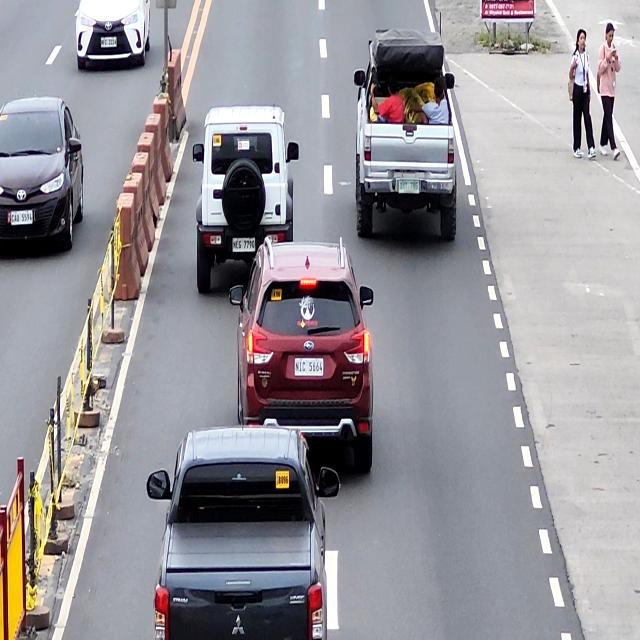Car: (145, 427, 340, 640), (231, 244, 376, 474), (353, 34, 458, 239), (190, 106, 300, 291)
License-Plate: (294, 358, 323, 376), (231, 239, 256, 252), (398, 180, 419, 194)
